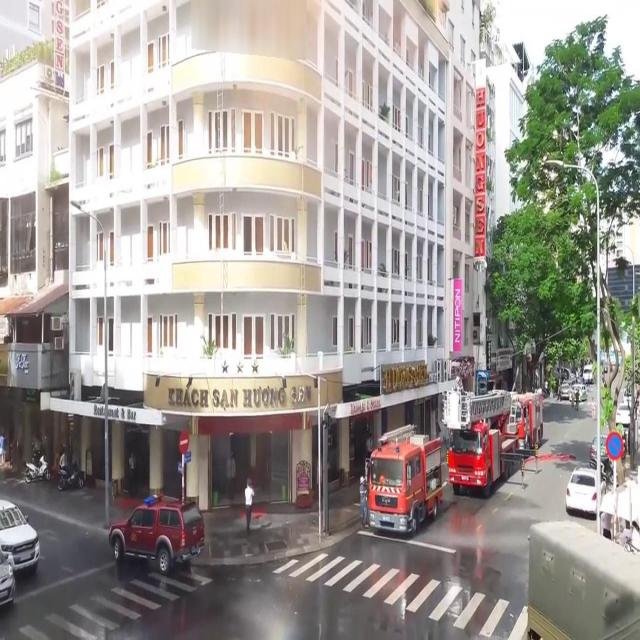car: (108, 494, 204, 571), (0, 498, 40, 581), (564, 465, 605, 515), (590, 434, 610, 468)
truck: (527, 518, 640, 640), (369, 423, 441, 537), (444, 387, 518, 489), (503, 388, 543, 456)
